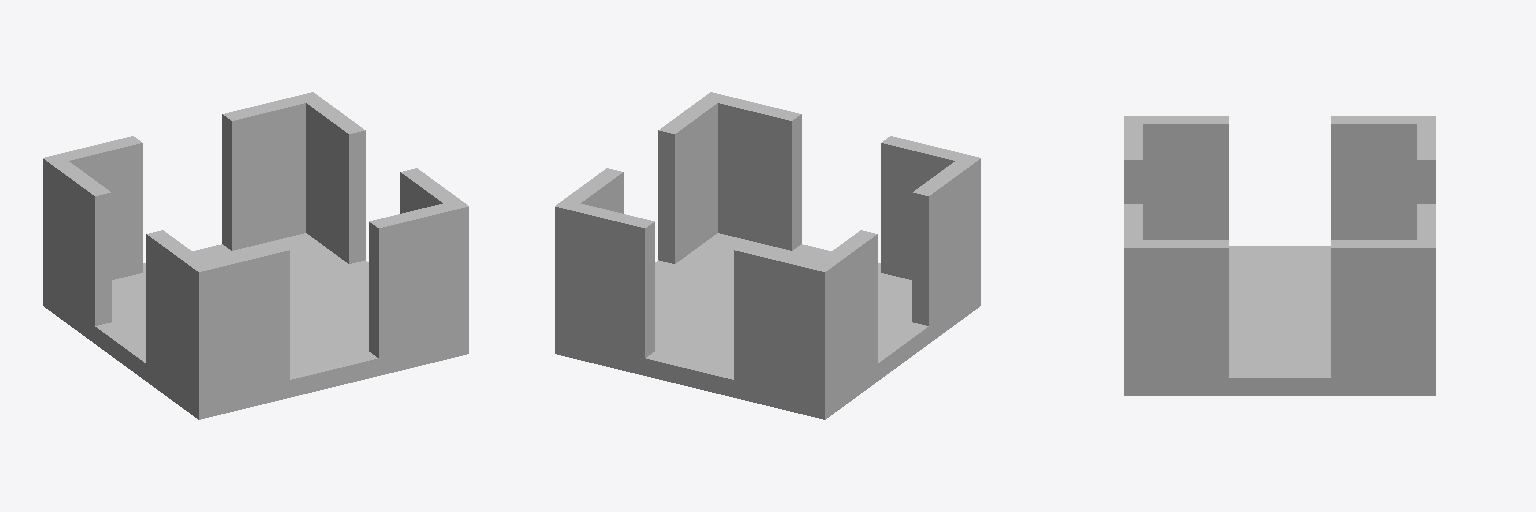
Rendered from level3_room.obj.
3 renders of one model, left to right at view 1: azimuth 30°, elevation 25°; view 2: azimuth 150°, elevation 25°; view 3: azimuth 270°, elevation 25°, orthographic.
Parts seen in each view (by area): view 1: Room_Cube; view 2: Room_Cube; view 3: Room_Cube.
Boxes of the visible parts, box(x1,y1,x2,y2) form: Room_Cube: box(43, 92, 468, 419); Room_Cube: box(555, 92, 980, 419); Room_Cube: box(1124, 116, 1435, 395).
Bounding box in the file's own units: 16 × 8.34 × 16.